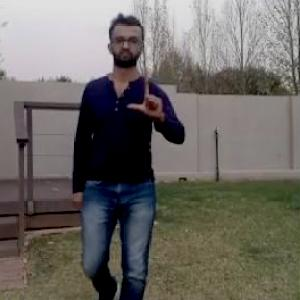land_hand: (124, 68, 169, 123)
